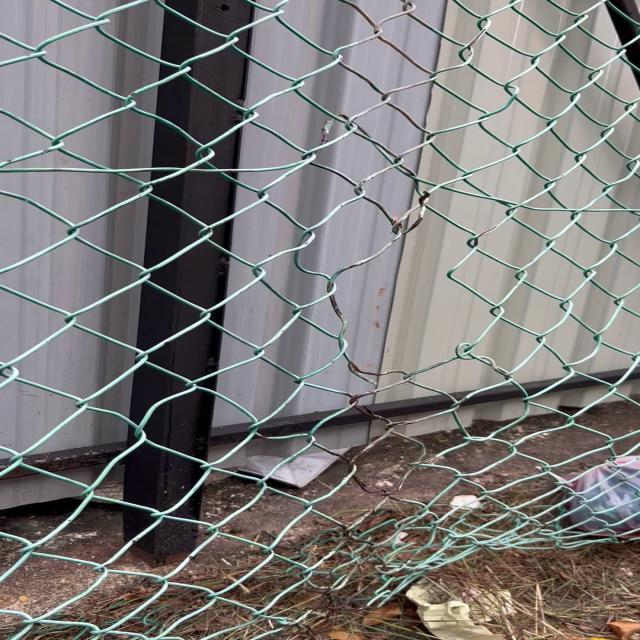fence line: (316, 204, 504, 390)
